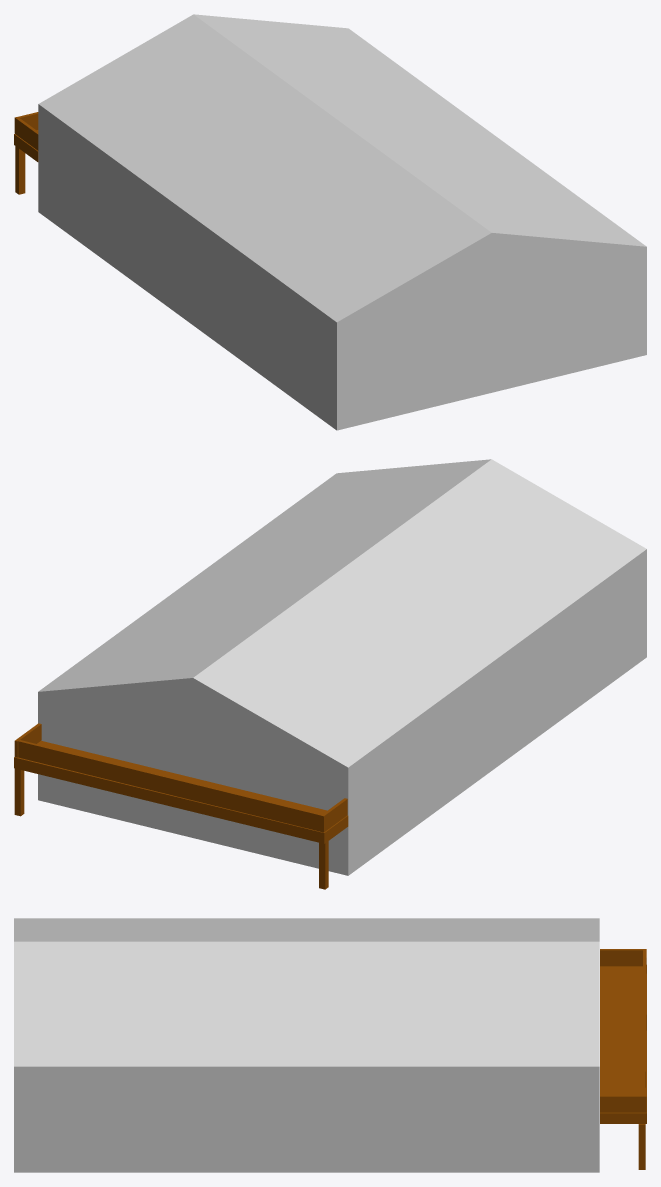
The model's file is Zelt.fbx.
The picture shows the model from 3 angles, top to bottom: view 1: azimuth 30°, elevation 25°; view 2: azimuth 150°, elevation 25°; view 3: azimuth 270°, elevation 25°; orthographic projection. The views are drawn at different scales.
Parts seen in each view (by area): view 1: Cube; view 2: Cube, Cube.004, Cube.001; view 3: Cube, Cube.001, Cube.003, Cube.002, Cube.004.
Part boxes in pixels (left/top/right/bottom): Cube: left=38, top=14, right=646, bottom=430; Cube: left=38, top=459, right=646, bottom=875; Cube.004: left=18, top=740, right=322, bottom=831; Cube.001: left=14, top=740, right=348, bottom=843; Cube: left=14, top=918, right=599, bottom=1172; Cube.001: left=600, top=965, right=646, bottom=1123; Cube.003: left=600, top=1095, right=646, bottom=1112; Cube.002: left=600, top=949, right=646, bottom=966; Cube.004: left=642, top=950, right=646, bottom=1095.
Size of the model in its own units: 3003 by 1479 by 5405.
